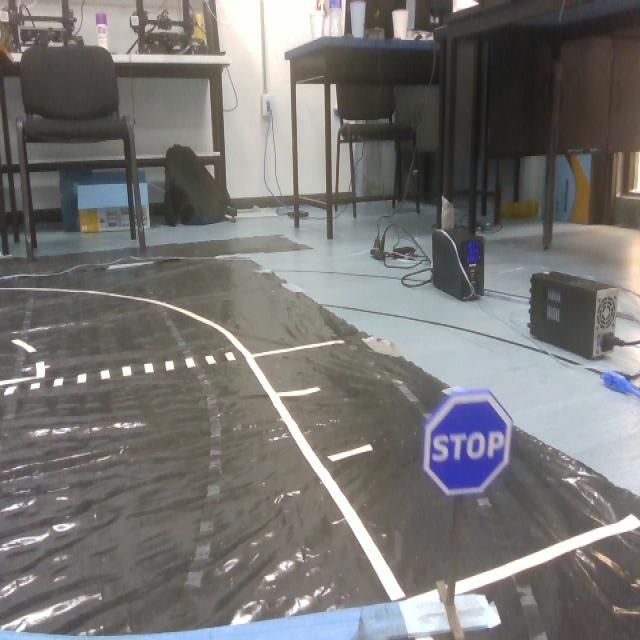no_entry: (425, 387, 503, 502)
